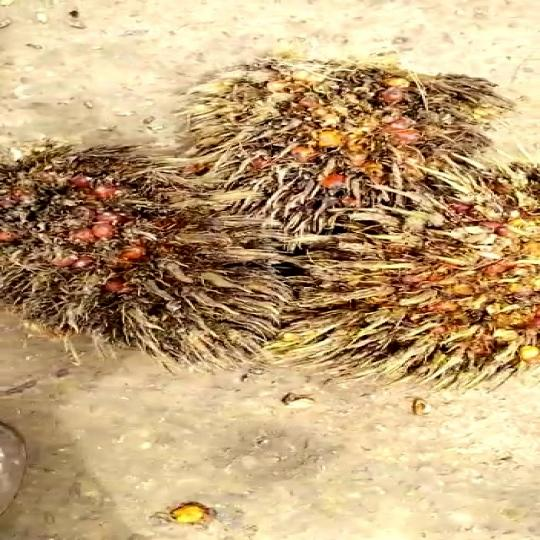terlalu masak: (0, 141, 338, 353), (170, 54, 498, 237), (280, 163, 540, 381)
